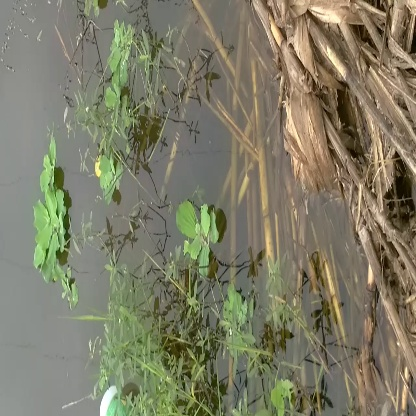leaf: (174, 202, 227, 263)
